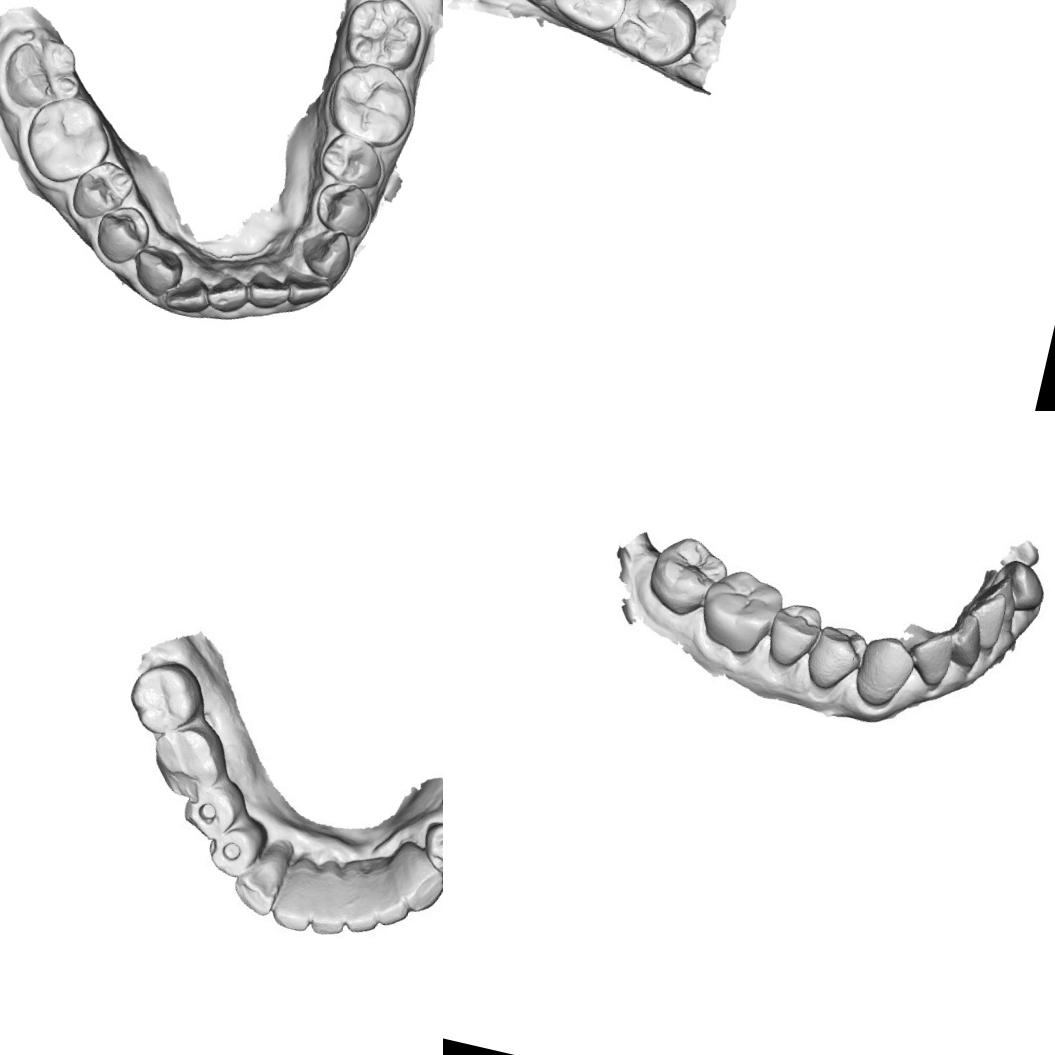canine: (228, 838, 292, 921), (852, 633, 919, 712), (384, 837, 443, 917), (126, 241, 188, 302), (294, 222, 357, 282)
incisor: (272, 856, 328, 936), (306, 861, 359, 941), (360, 854, 416, 926), (337, 860, 389, 933), (902, 626, 960, 690), (965, 594, 1017, 660), (942, 612, 990, 670), (162, 269, 216, 320), (994, 561, 1042, 612), (241, 268, 294, 314), (276, 270, 334, 312), (202, 271, 253, 317)
molar: (16, 87, 121, 194), (320, 52, 426, 154), (639, 526, 732, 625), (698, 564, 787, 664), (0, 28, 91, 119), (606, 0, 705, 74), (338, 0, 429, 79), (146, 723, 224, 802), (124, 660, 202, 736), (545, 0, 632, 36)
premolar: (68, 154, 140, 228), (759, 594, 825, 670), (802, 620, 866, 696), (88, 200, 156, 270), (316, 128, 390, 192), (310, 175, 378, 240), (182, 781, 242, 840), (204, 823, 262, 879), (427, 819, 443, 874)
